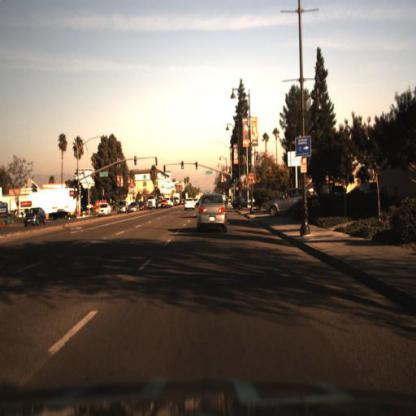car: (196, 196, 231, 240), (268, 190, 311, 217), (22, 205, 47, 233), (26, 206, 51, 227), (47, 208, 70, 224), (96, 202, 112, 223), (181, 195, 199, 212), (53, 208, 71, 222), (97, 202, 110, 219), (118, 202, 130, 218)
trafficLight-Green: (180, 158, 188, 172), (194, 163, 199, 175), (233, 176, 238, 188)
